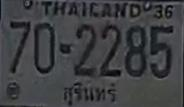0: (33, 22, 54, 73)
2: (74, 23, 96, 75), (100, 23, 120, 76)
5: (149, 24, 173, 76)
7: (9, 20, 30, 72)
8: (124, 24, 146, 76)
SRN: (58, 78, 122, 105)
